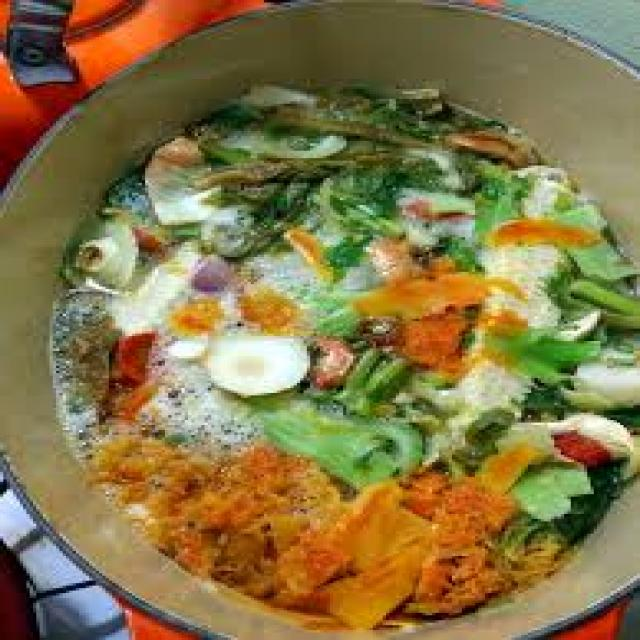Organik: (49, 97, 640, 640), (179, 308, 346, 426)
